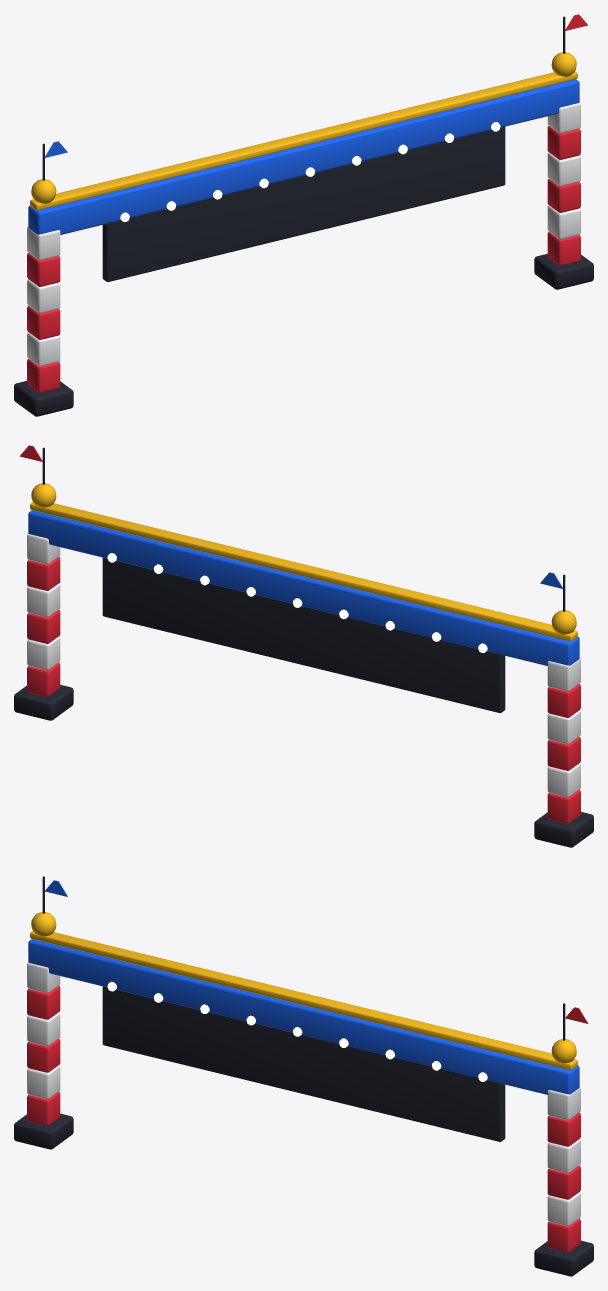
File: gantry.glb
3 views of the same model, one above another, from view 1: azimuth 30°, elevation 25°; view 2: azimuth 150°, elevation 25°; view 3: azimuth 330°, elevation 25° (orthographic).
Visible parts, largest first — view 1: Gantry; view 2: Gantry; view 3: Gantry.
Boxes of the visible parts, bbox=[...] form: Gantry: bbox=[14, 14, 593, 416]; Gantry: bbox=[14, 445, 593, 847]; Gantry: bbox=[14, 876, 593, 1276].
Size of the model in its own units: 31.65 by 14 by 2.2.
